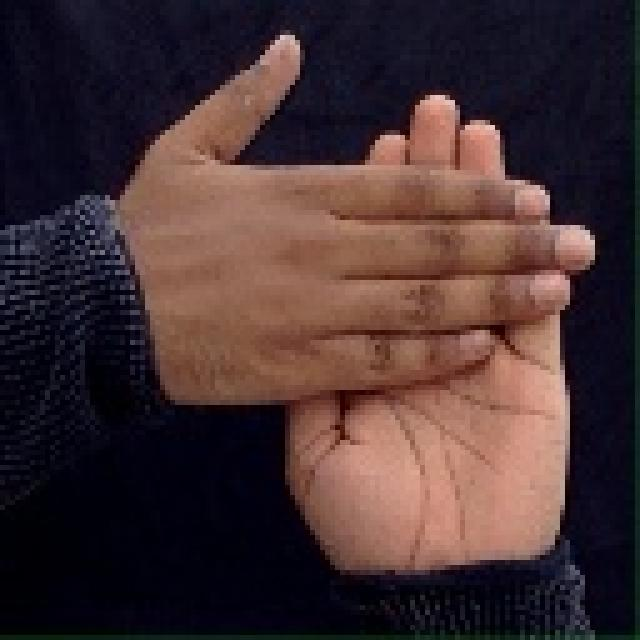H: (119, 42, 583, 558)
